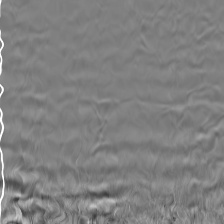cavities: (27, 48, 183, 186)
